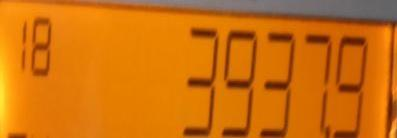0: (324, 123, 333, 138)
4: (179, 23, 219, 138), (257, 29, 293, 138)
8: (302, 30, 333, 138)
:: (330, 32, 371, 138), (221, 29, 256, 138)
